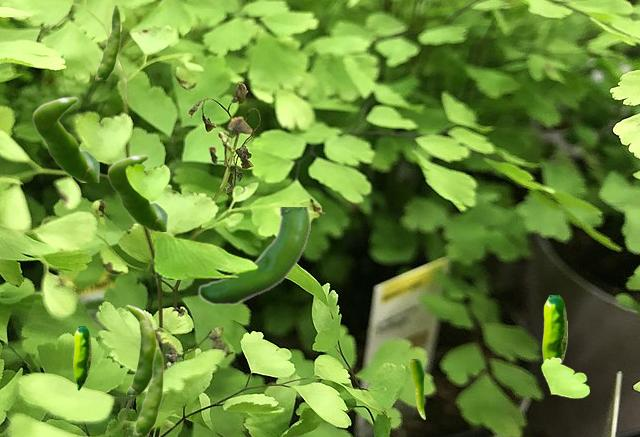green_chili: (197, 207, 309, 305), (32, 96, 98, 181), (107, 154, 166, 230), (125, 304, 157, 393), (133, 346, 163, 435), (95, 3, 120, 79), (542, 295, 566, 363), (73, 326, 90, 389), (409, 359, 424, 418)
